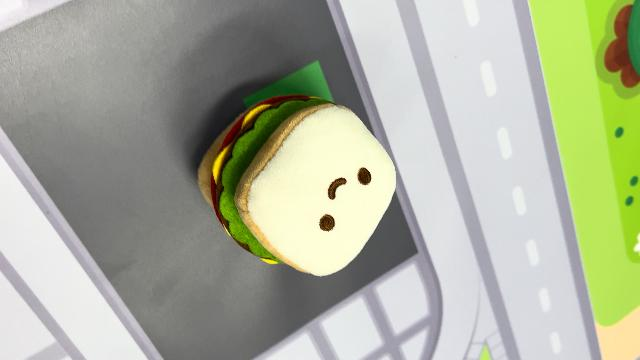sandwich: (195, 90, 399, 278)
